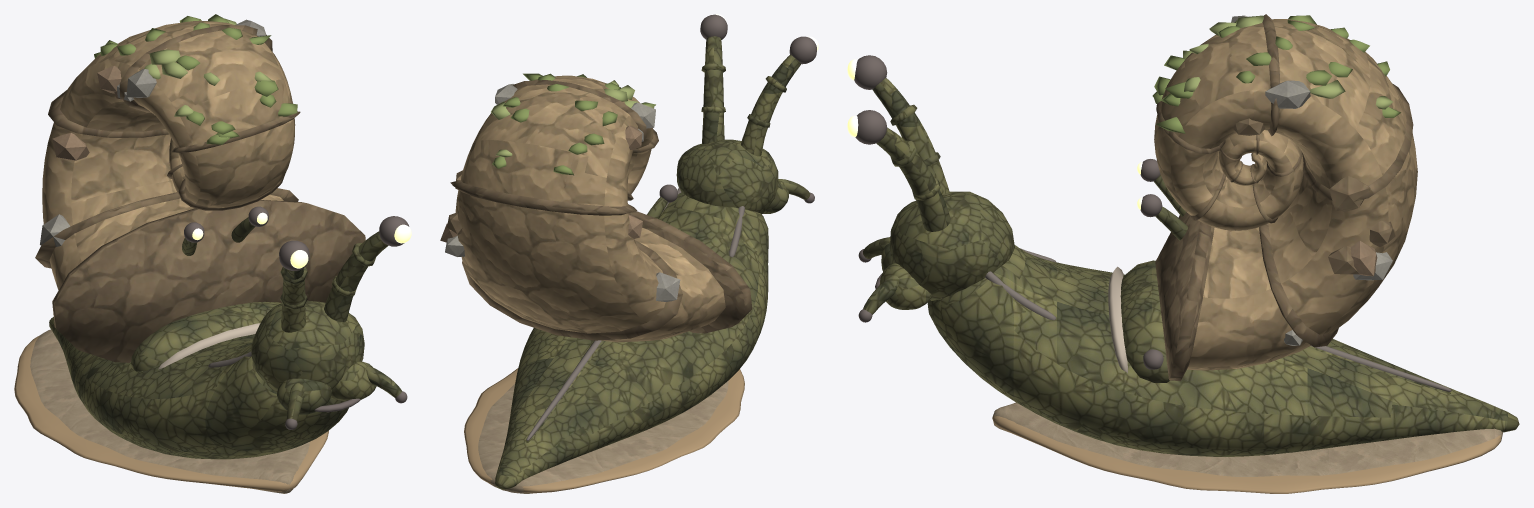
File: rock_snail_v1.glb
3 renders of one model, left to right at view 1: azimuth 30°, elevation 25°; view 2: azimuth 150°, elevation 25°; view 3: azimuth 270°, elevation 25°, orthographic. The views are drawn at different scales.
Parts seen in each view (by area): view 1: body, soft_body, soft_stalk_r, soft_stalk_l, peek; view 2: body, soft_body, soft_stalk_l, soft_stalk_r, peek; view 3: soft_body, body, soft_stalk_r, soft_stalk_l, peek.
Boxes of the visible parts, x1,y1,x2,y2 form: body: (35, 14, 365, 362); soft_body: (14, 300, 407, 493); soft_stalk_r: (324, 216, 411, 322); soft_stalk_l: (279, 240, 309, 332); peek: (182, 206, 268, 255); body: (440, 73, 752, 342); soft_body: (464, 139, 814, 493); soft_stalk_l: (741, 36, 818, 156); soft_stalk_r: (700, 14, 727, 144); peek: (647, 184, 677, 218); soft_body: (858, 191, 1519, 493); body: (1152, 14, 1417, 380); soft_stalk_r: (847, 110, 950, 231); soft_stalk_l: (847, 55, 949, 194); peek: (1137, 159, 1188, 240).
Bounding box in the file's own units: 0.9271 × 1.12 × 1.61.
Materials: 13 (6 with a texture image).
